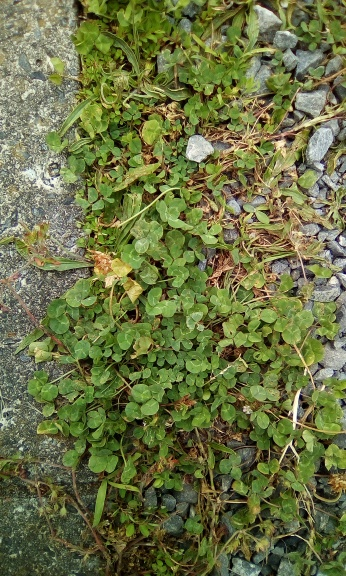4leaf: (129, 219, 163, 254)
